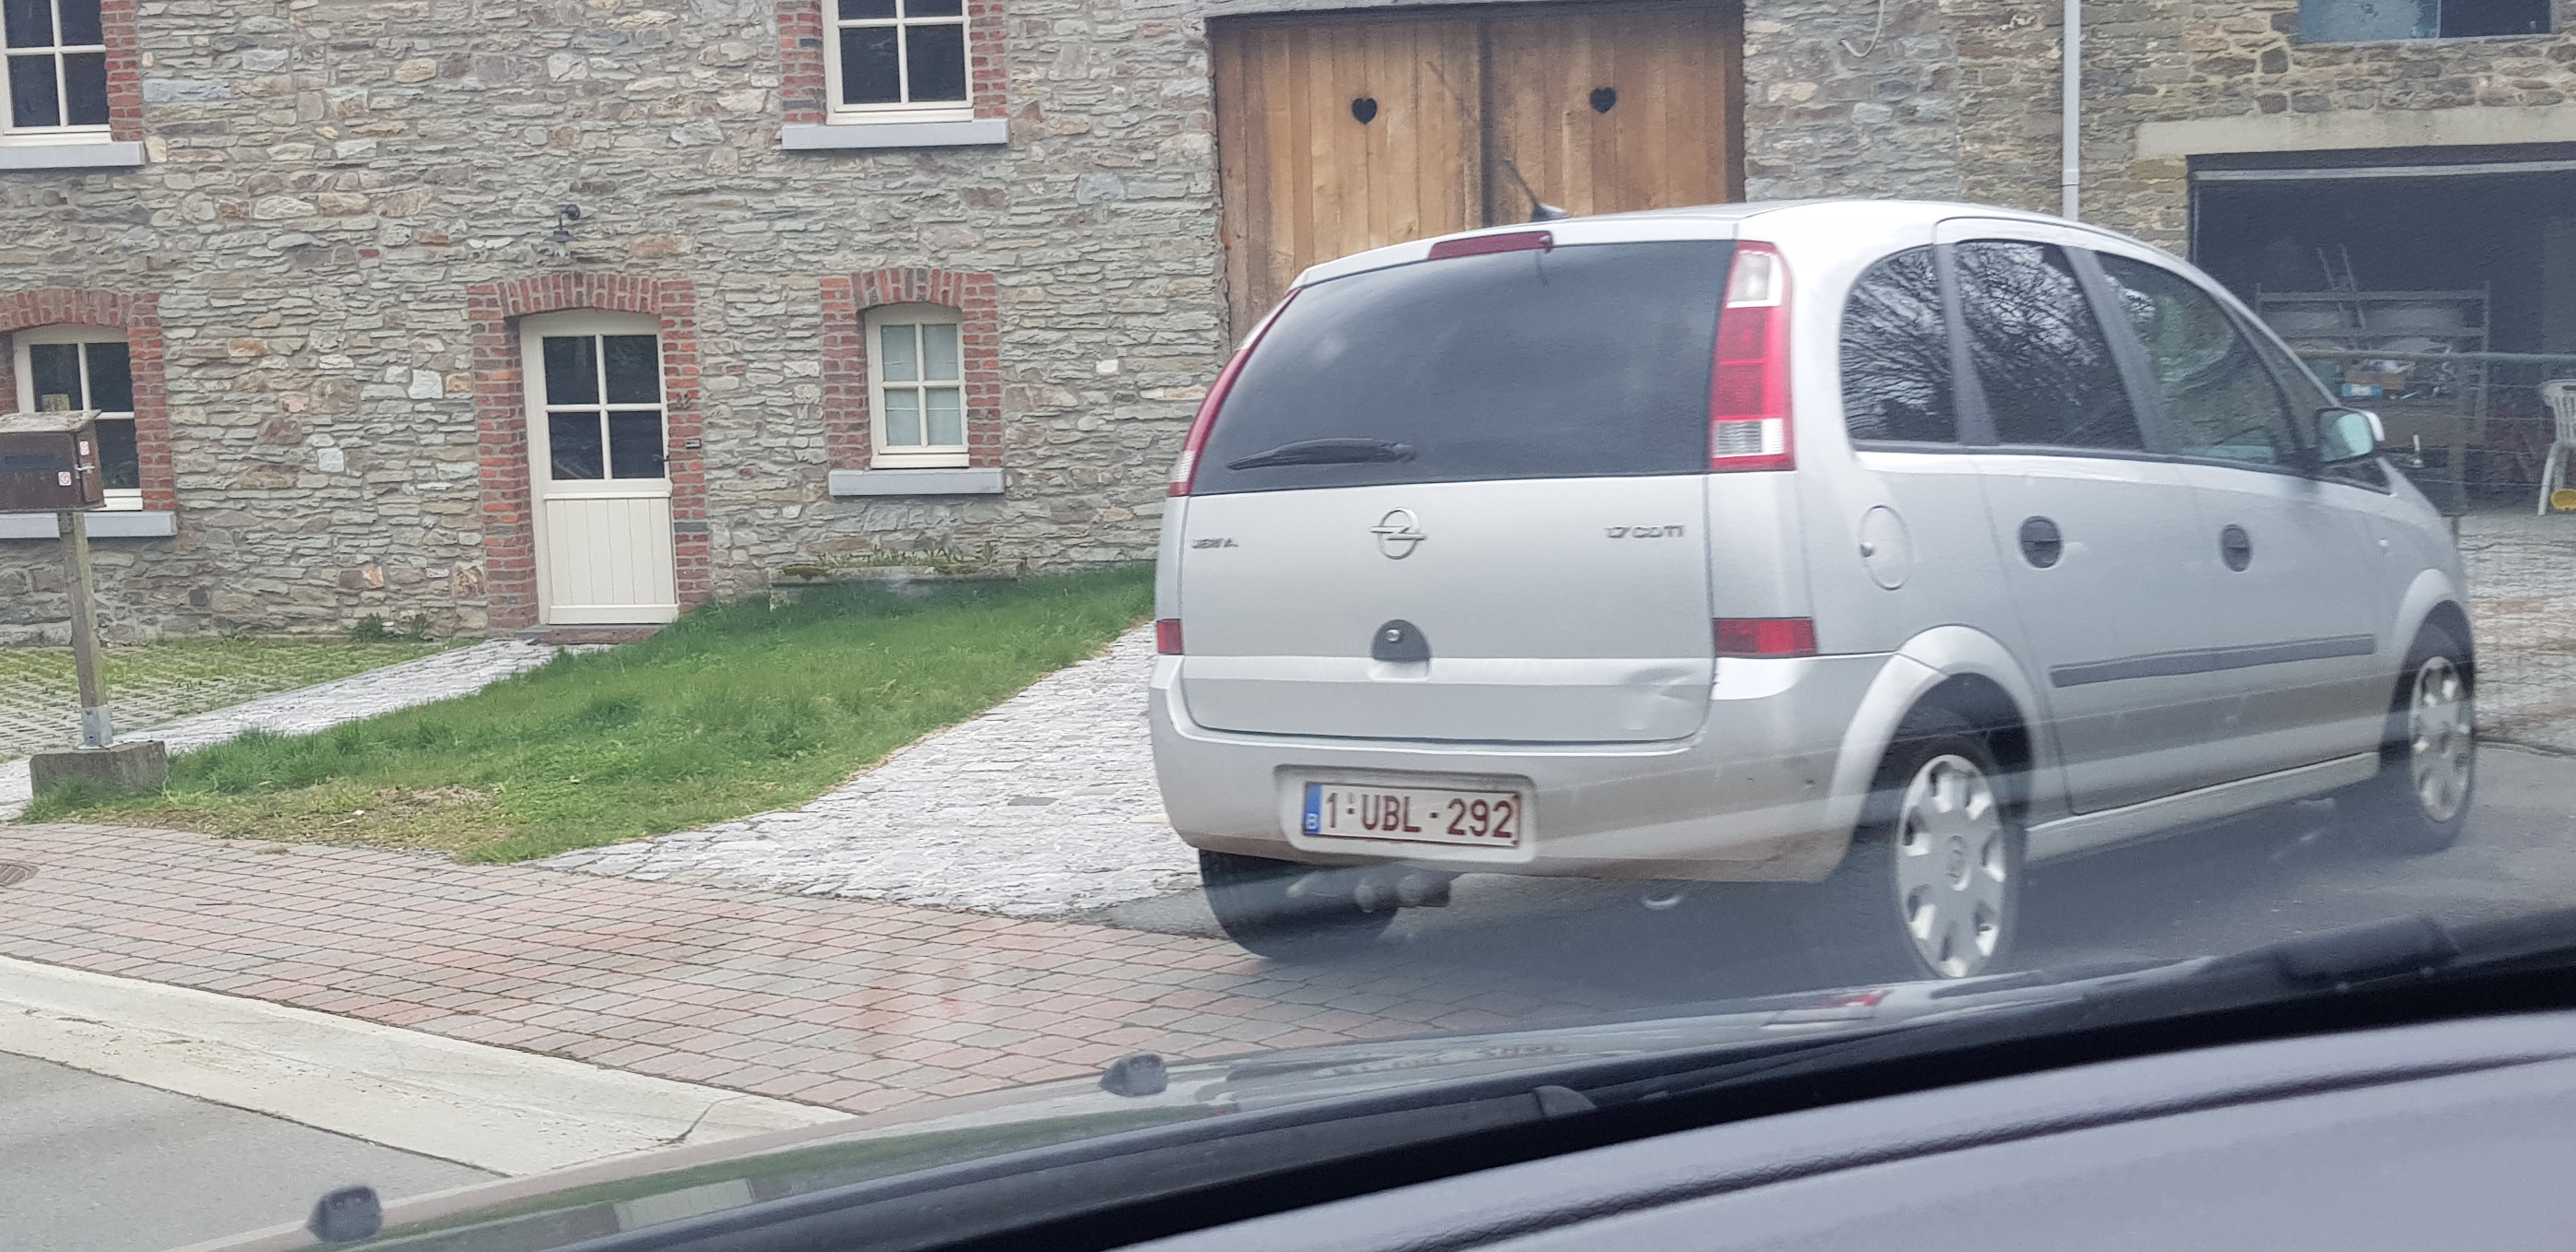licenceplate: (1301, 777, 1524, 850)
